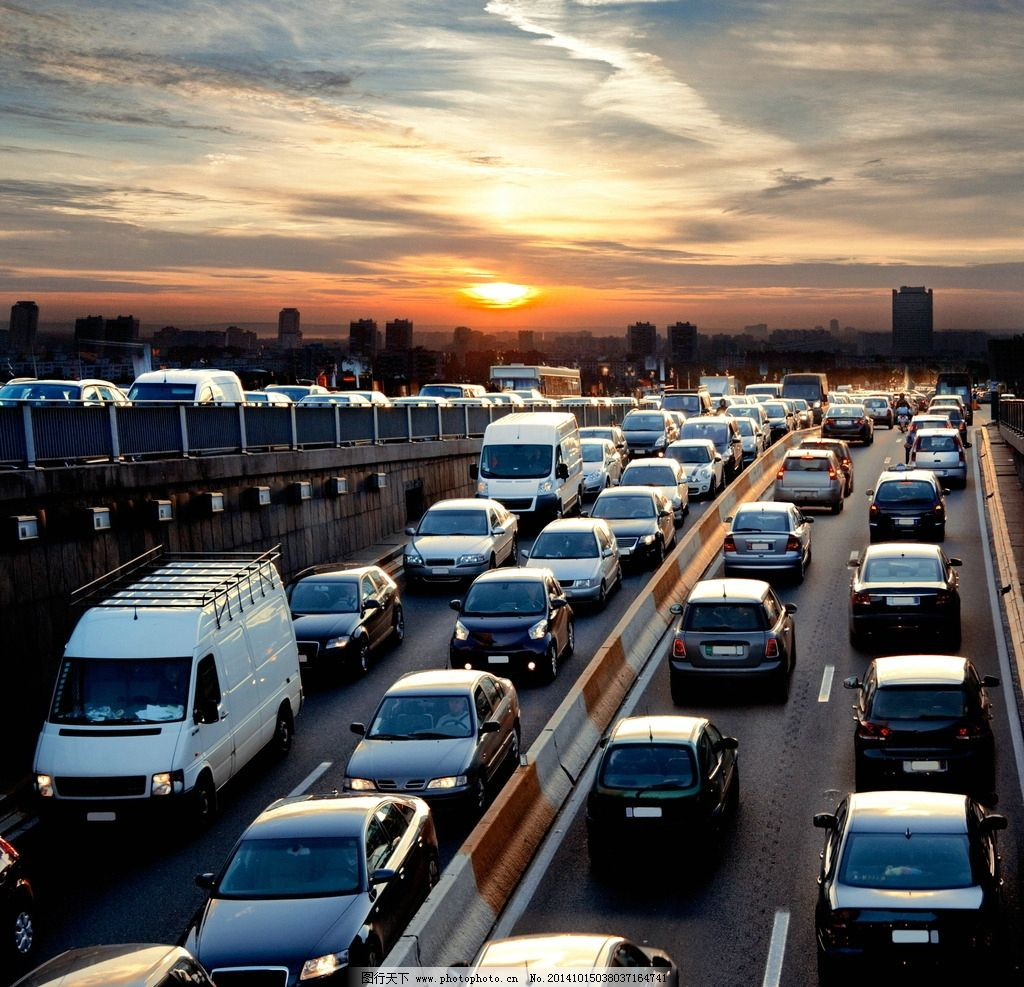bus: (488, 360, 582, 418)
car: (174, 792, 439, 987), (808, 792, 1009, 987), (666, 576, 797, 703)
microbus: (29, 542, 302, 826), (479, 410, 583, 537)
suv: (675, 415, 744, 484), (609, 407, 679, 465)
truck: (778, 372, 830, 425), (933, 370, 975, 422)
